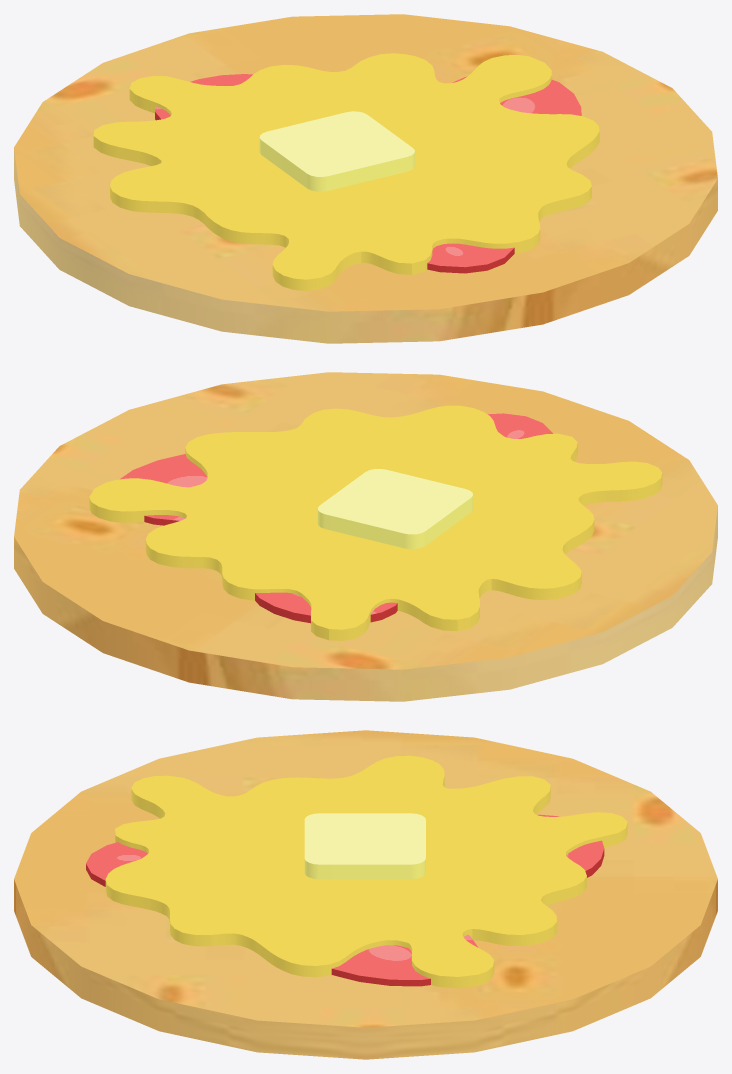
File: taco_Carne_Salsa.glb
3 renders of one model, top to bottom at view 1: azimuth 30°, elevation 25°; view 2: azimuth 150°, elevation 25°; view 3: azimuth 270°, elevation 25°, orthographic.
Visible parts, largest first — view 1: tortilla.002, Melted_Butter_Butter_0, Ham_Slice_Ham_0.002; view 2: tortilla.002, Melted_Butter_Butter_0, Ham_Slice_Ham_0.002; view 3: tortilla.002, Melted_Butter_Butter_0, Ham_Slice_Ham_0.002.
Part boxes in pixels (x1,y1,x2,y2): tortilla.002: (14, 14, 717, 343); Melted_Butter_Butter_0: (93, 53, 599, 290); Ham_Slice_Ham_0.002: (155, 74, 581, 273); tortilla.002: (14, 372, 717, 701); Melted_Butter_Butter_0: (89, 405, 662, 640); Ham_Slice_Ham_0.002: (120, 413, 552, 623); tortilla.002: (14, 730, 717, 1059); Melted_Butter_Butter_0: (105, 755, 627, 988); Ham_Slice_Ham_0.002: (86, 814, 604, 986).
Size of the model in its own units: 0.2118 by 0.0192 by 0.2118.
3 materials, 3 textured.
